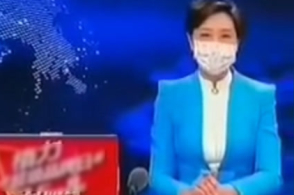mask: (187, 31, 248, 78)
